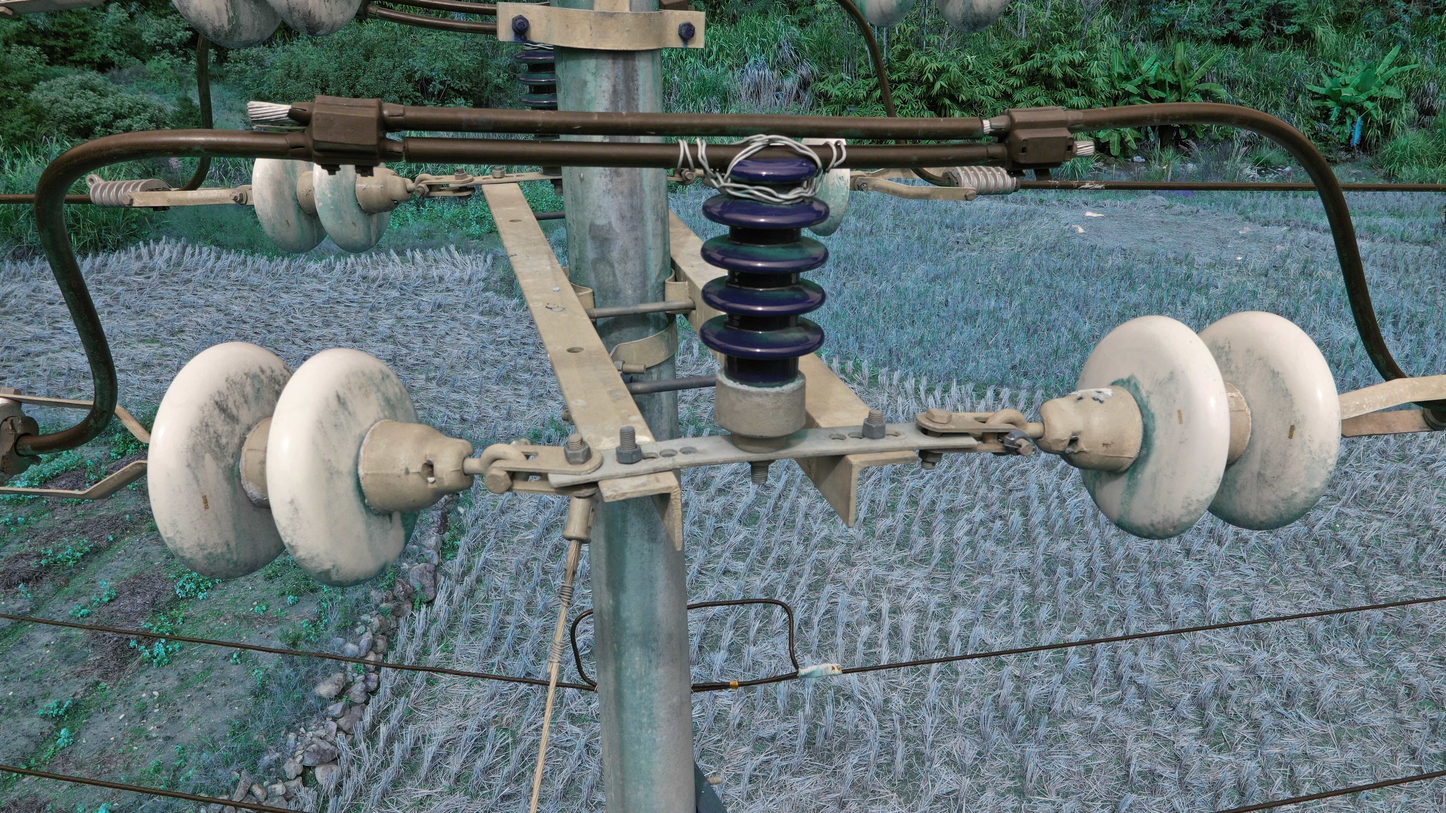severe_soiling_no_discharge_whole: (142, 338, 474, 587), (1032, 311, 1345, 539), (697, 142, 836, 451), (248, 156, 414, 256), (168, 2, 362, 49), (847, 0, 1015, 36), (514, 44, 558, 110)
